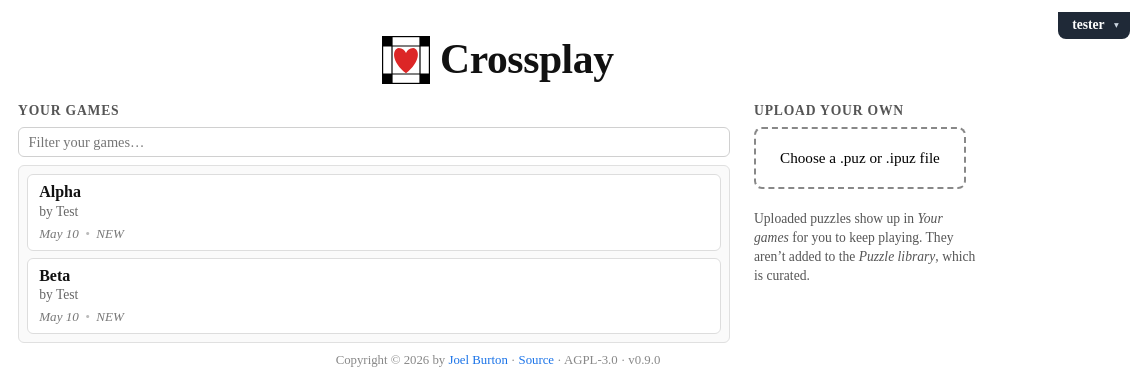
Scenario: HomePage › filters Your games and shows 'no games match' when the filter has zero hits
Type "alph" into the search field labelled "Filter your games" at (374, 142), box [18,127,730,157]
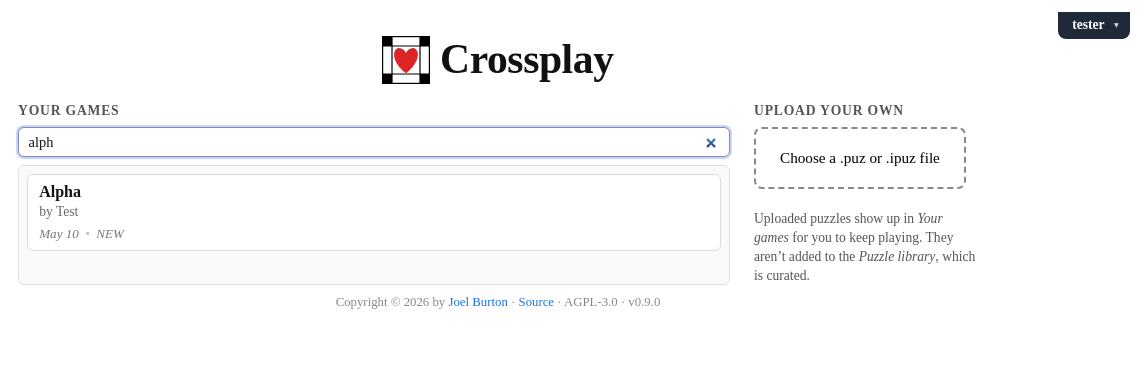
Expected: the text "Alpha" is shown, [39,183,81,201]
Now the button "Beta" is gone
Replace the text in the search field named "Filter your games" with "zzz" at (374, 142), box [18,127,730,157]
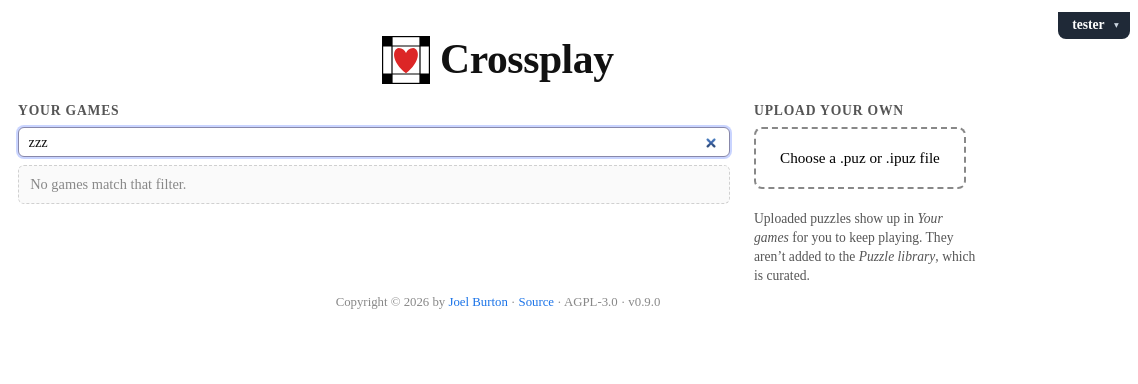
Now the text "No games match that filter." is shown, box [18,165,730,204]
